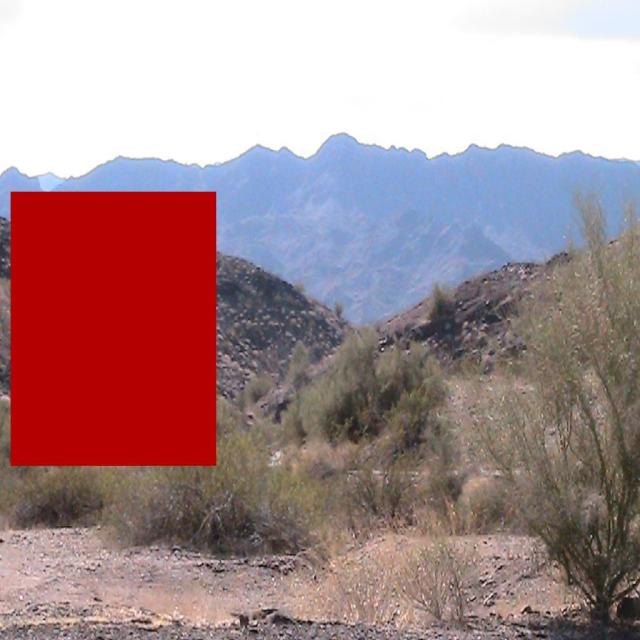RedSquare: (7, 183, 224, 471)
